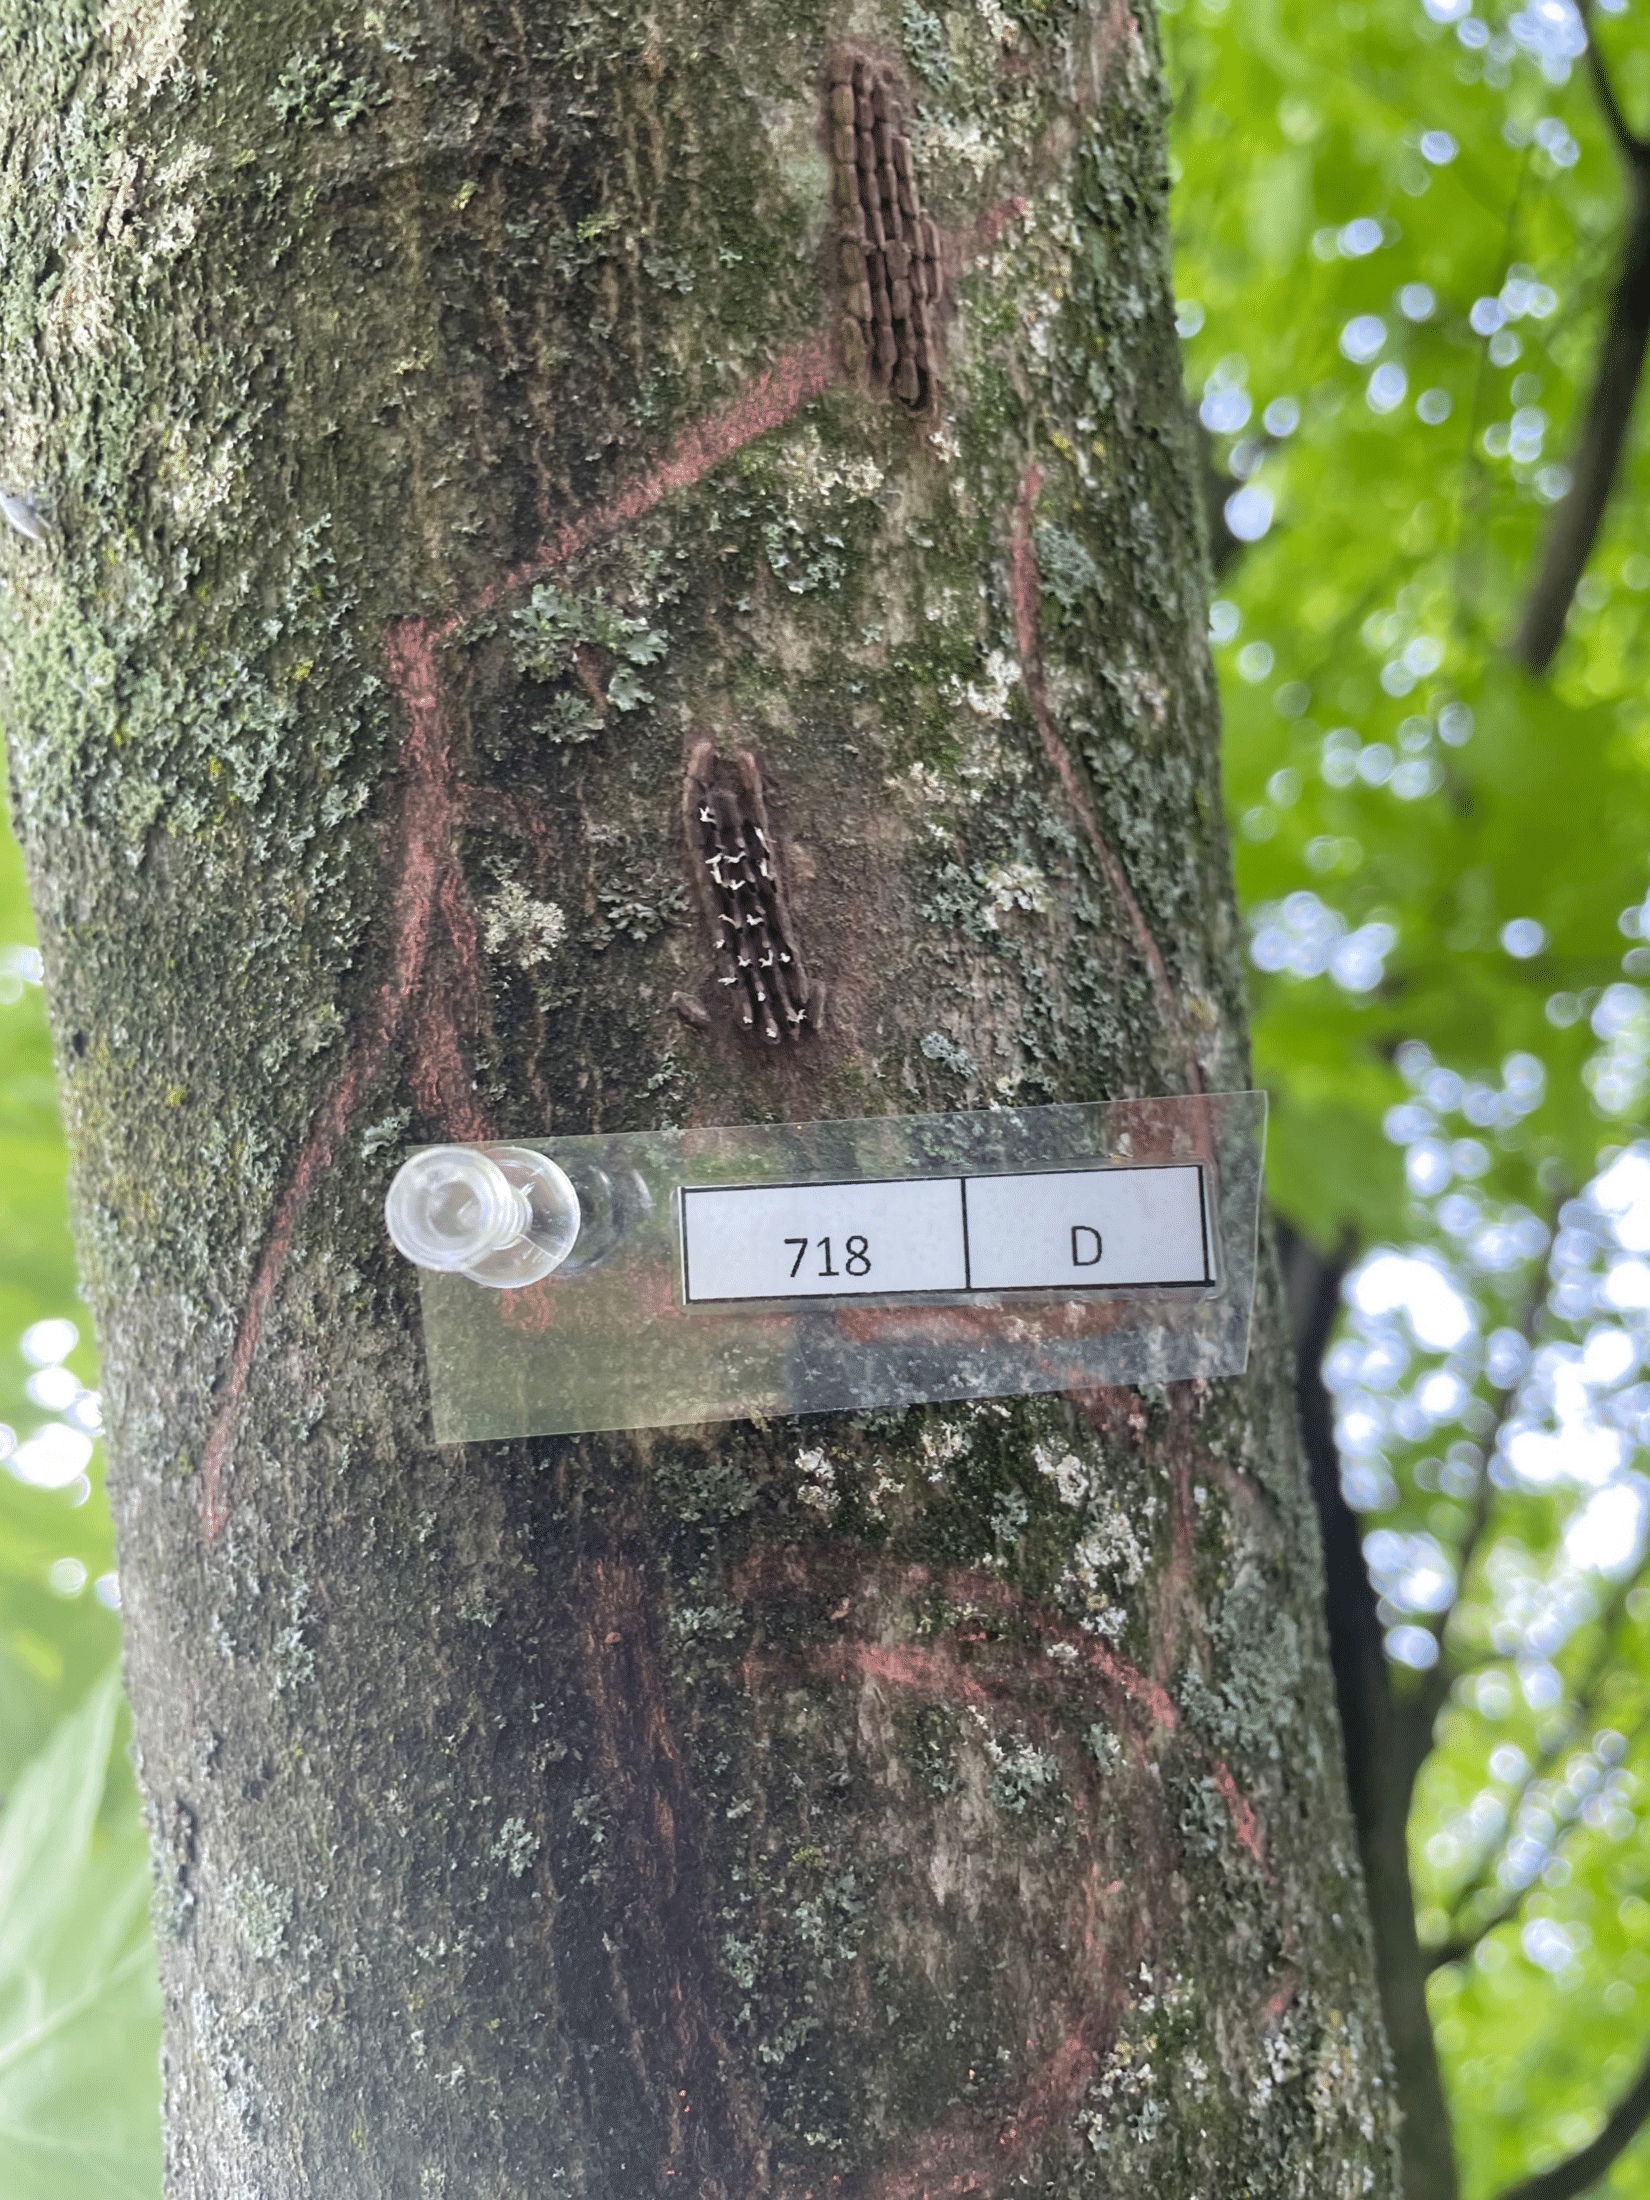egg masses: (787, 0, 986, 437), (650, 747, 849, 1043)
